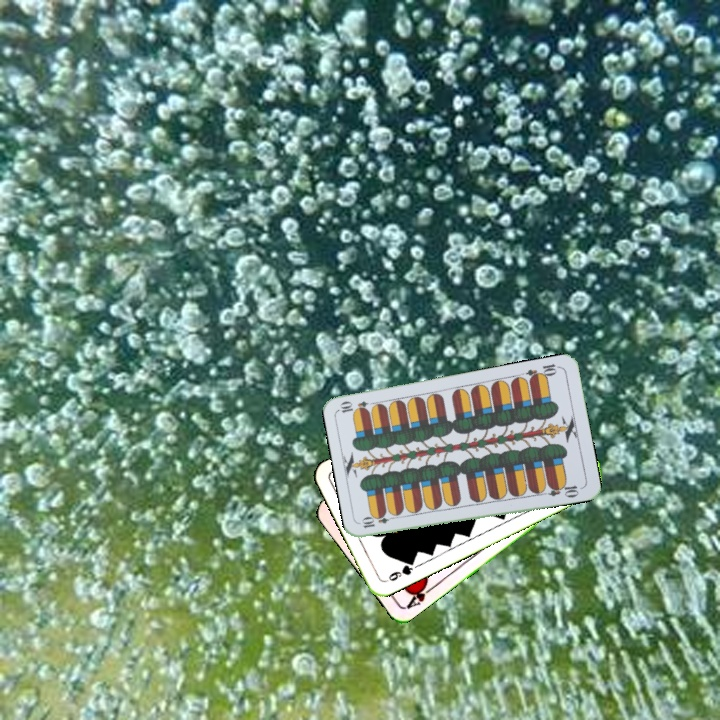E10: (522, 360, 563, 384), (358, 511, 398, 531)
G9: (381, 557, 417, 585)
HA: (402, 578, 437, 612)
